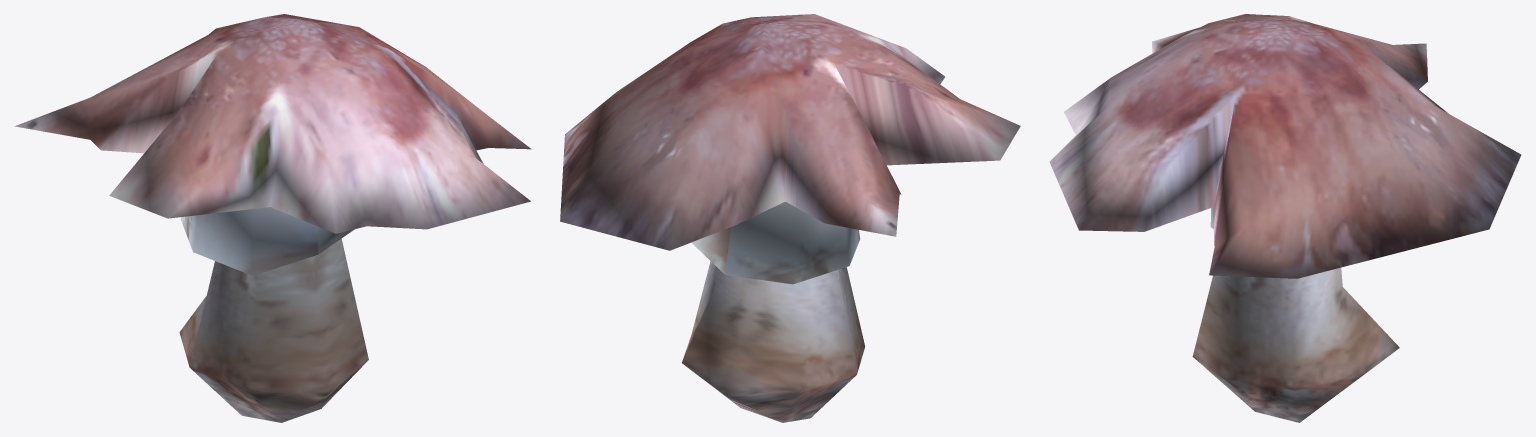
The model's file is SM_TOADSTOOL_11.FBX.
The picture shows the model from 3 angles, left to right: view 1: azimuth 30°, elevation 25°; view 2: azimuth 150°, elevation 25°; view 3: azimuth 270°, elevation 25°; orthographic projection. The views are drawn at different scales.
Parts seen in each view (by area): view 1: SM_TOADSTOOL_11; view 2: SM_TOADSTOOL_11; view 3: SM_TOADSTOOL_11.
Boxes of the visible parts, x1,y1,x2,y2 form: SM_TOADSTOOL_11: (14, 14, 531, 422); SM_TOADSTOOL_11: (560, 14, 1020, 422); SM_TOADSTOOL_11: (1049, 14, 1521, 422).
Size of the model in its own units: 14.3 by 14.49 by 12.82.
